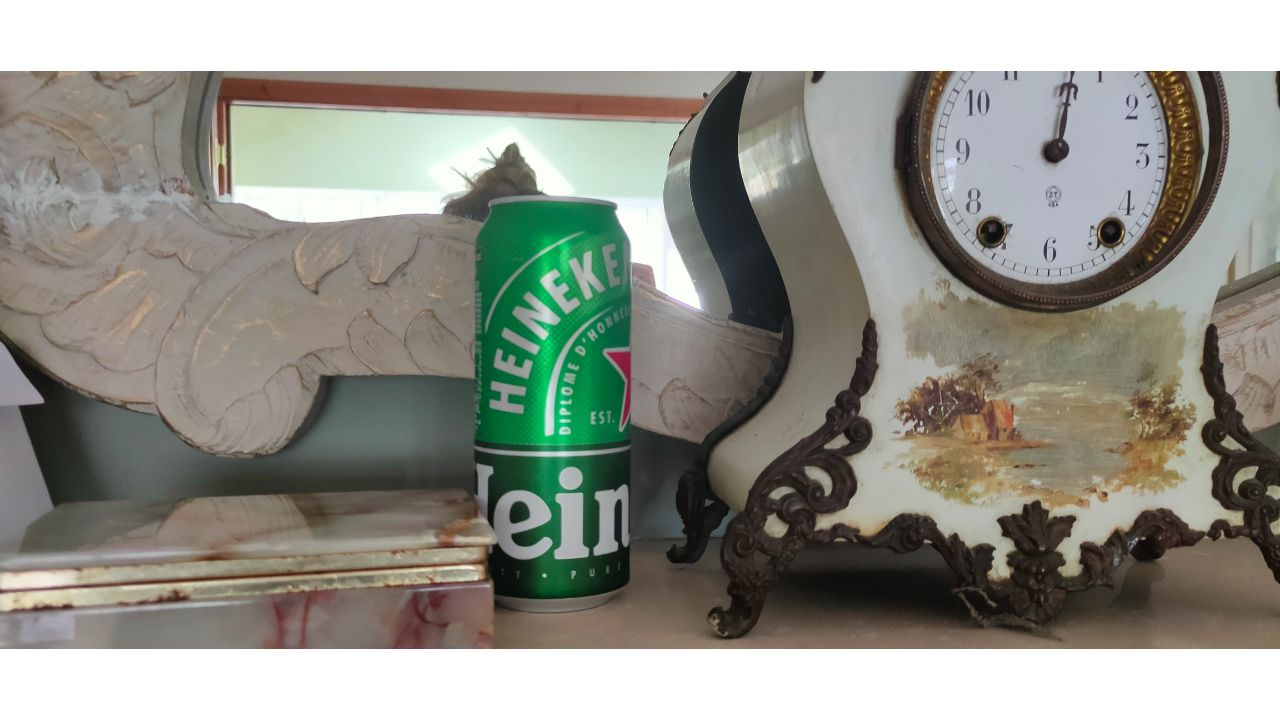Can: (477, 195, 637, 609)
